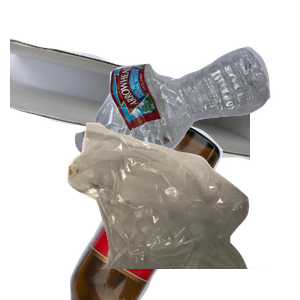cardboard: (10, 35, 250, 188)
glass: (67, 120, 282, 300)
plastic: (72, 44, 300, 200)
trash: (65, 120, 300, 300)
